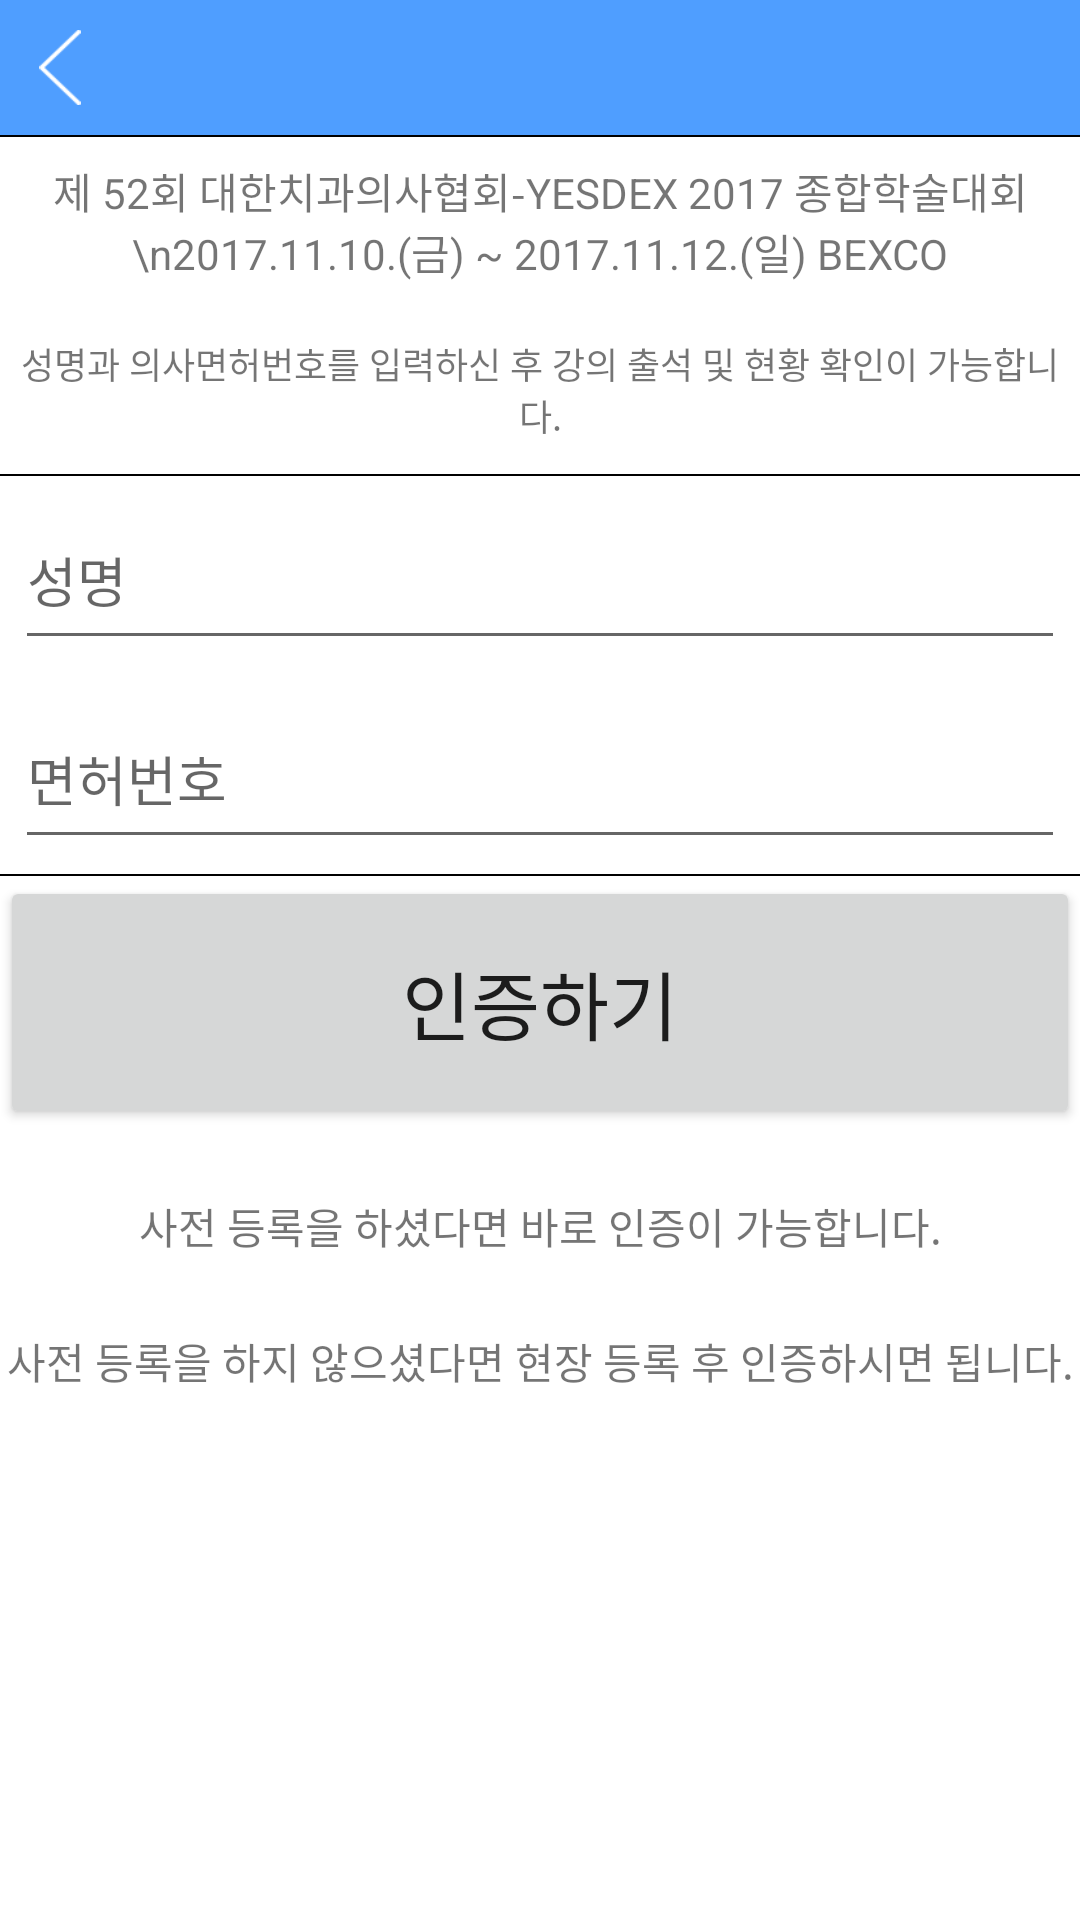

Where icons sit on this 1080 × 1920 app screen, as (x1, y1, x2, y2):
back bt: (39, 30, 81, 105)
